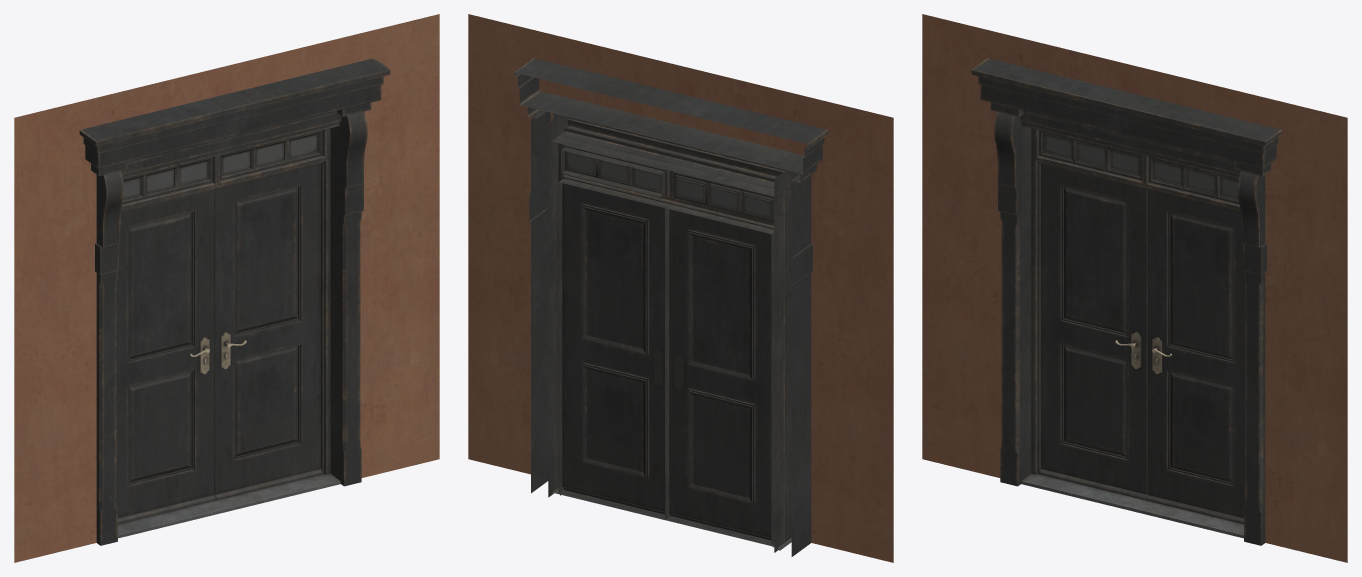
The model's file is facade-door.glb.
3 renders of one model, left to right at view 1: azimuth 30°, elevation 25°; view 2: azimuth 150°, elevation 25°; view 3: azimuth 330°, elevation 25°, orthographic.
Parts seen in each view (by area): view 1: door_centered_large_01, wall_door_centered_large_01; view 2: door_centered_large_01, wall_door_centered_large_01; view 3: door_centered_large_01, wall_door_centered_large_01.
Part boxes in pixels (x1=…): door_centered_large_01: x1=79, y1=58, x2=390, y2=545; wall_door_centered_large_01: x1=14, y1=14, x2=439, y2=562; door_centered_large_01: x1=514, y1=58, x2=828, y2=556; wall_door_centered_large_01: x1=468, y1=14, x2=893, y2=562; door_centered_large_01: x1=971, y1=58, x2=1282, y2=545; wall_door_centered_large_01: x1=922, y1=14, x2=1347, y2=562.
Size of the model in its own units: 3 by 3 by 0.44.
Materials: 3 (3 with a texture image).
